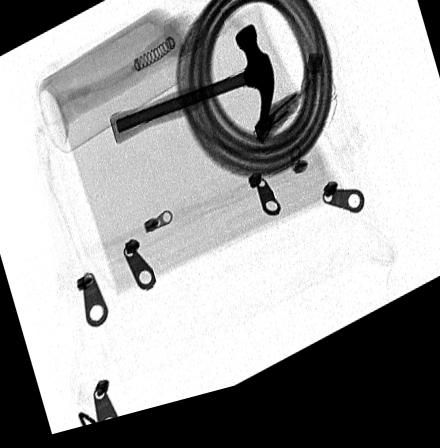Hammer: (108, 35, 275, 149)
